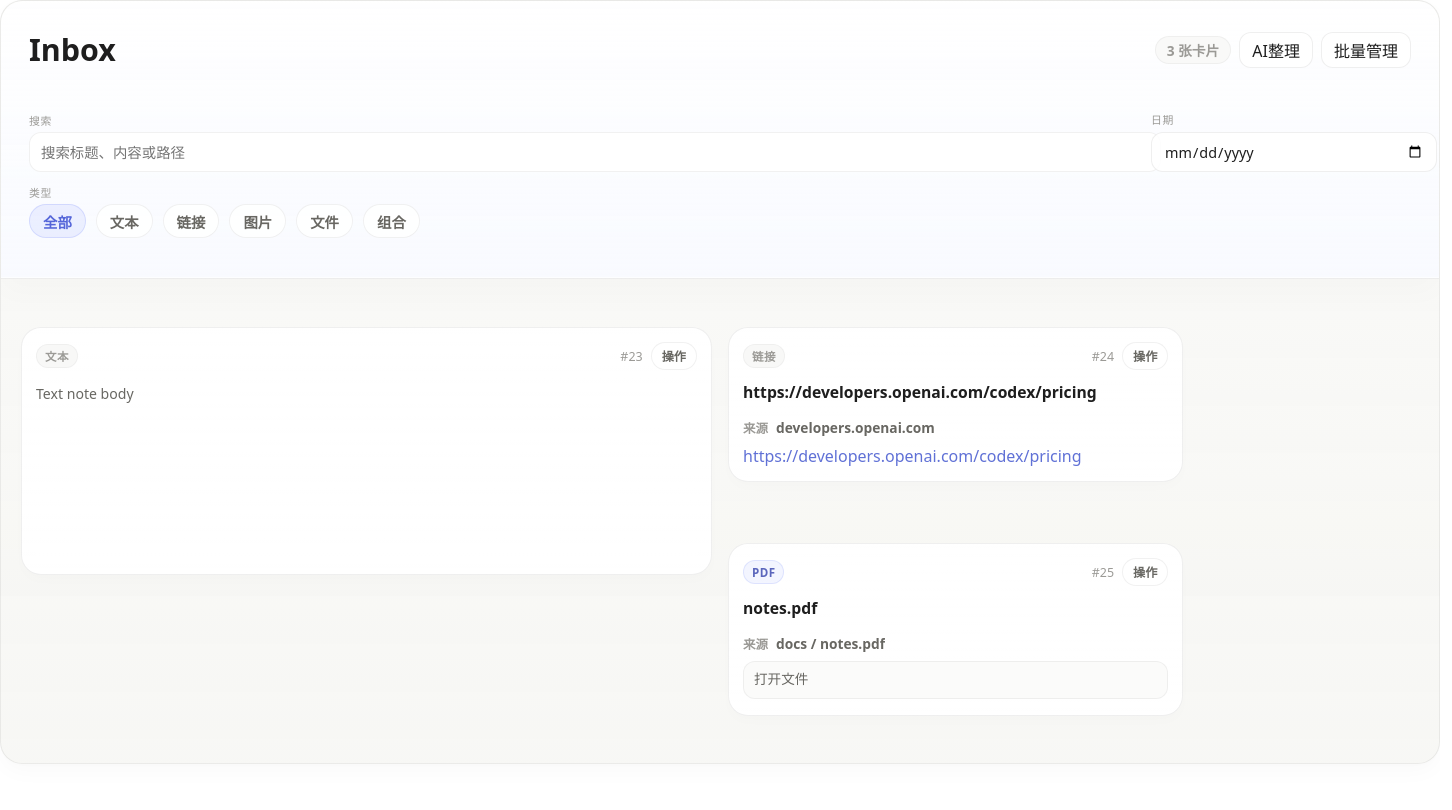
MainCanvas › collects common card actions into a single menu
The width and height of the screenshot is (1452, 810).
Expected: the button with aria-label "操作 Text note" is shown, top-left (651, 342), bottom-right (697, 370)
Expected: the button with aria-label "操作 notes.pdf" is shown, top-left (1122, 558), bottom-right (1168, 586)
Click the button with aria-label "操作 https://developers.openai.com/codex/pricing": (1145, 356) top-left (1122, 342), bottom-right (1168, 370)
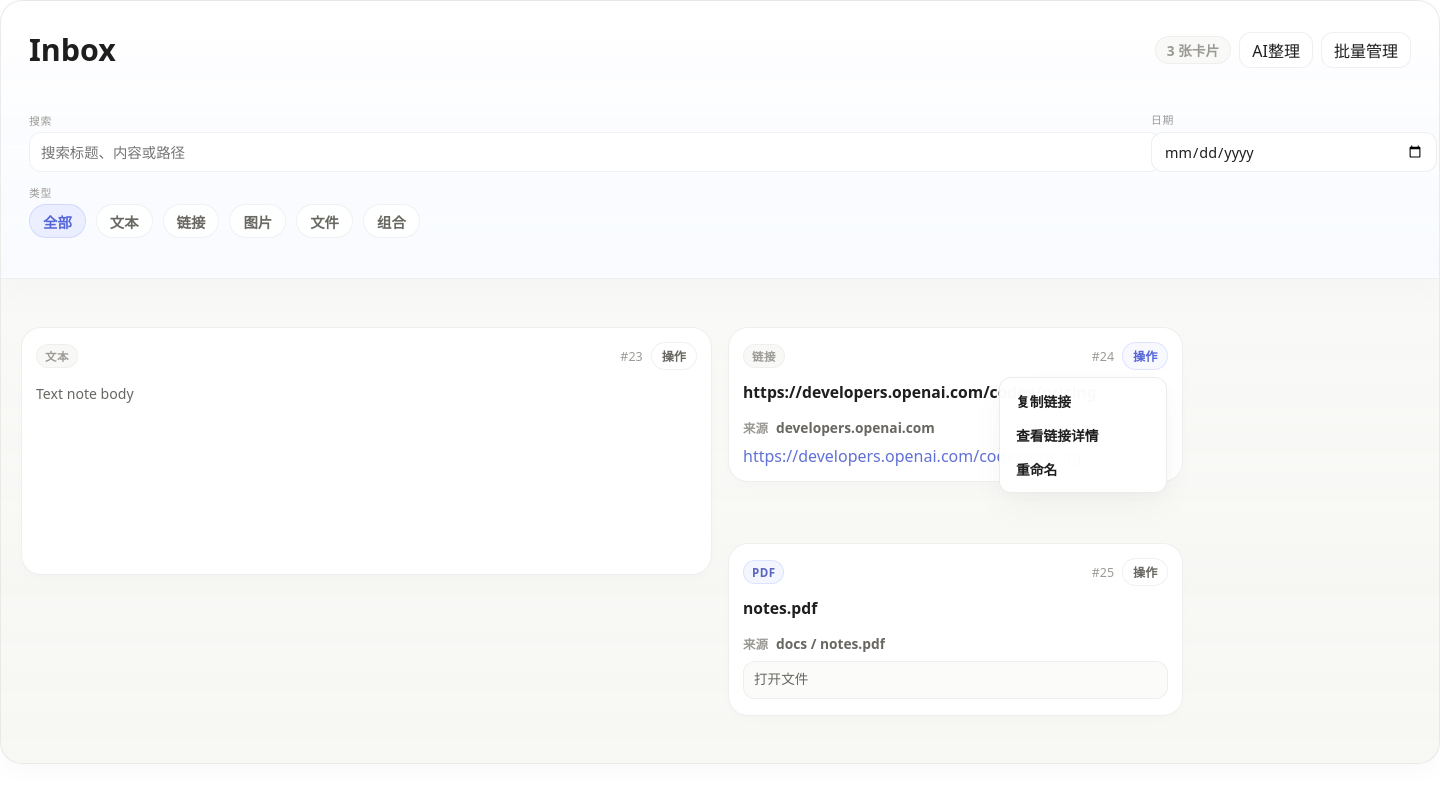
Result: the menu named "https://developers.openai.com/codex/pricing 操作" is shown at top-left (999, 377), bottom-right (1167, 493)
Result: the menu item "复制链接" is shown at top-left (1006, 384), bottom-right (1160, 418)
Result: the menu item "查看链接详情" is shown at top-left (1006, 418), bottom-right (1160, 452)
